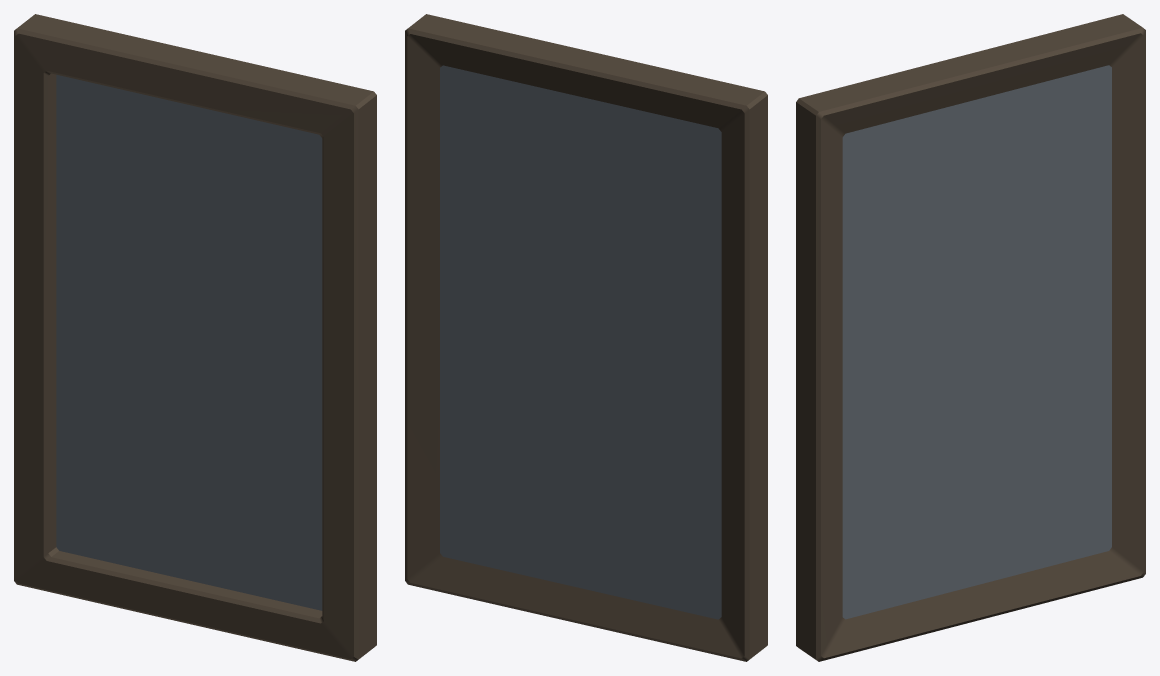
File: TEMP_Painting_Blue.fbx
3 views of the same model, side by side, from view 1: azimuth 30°, elevation 25°; view 2: azimuth 210°, elevation 25°; view 3: azimuth 270°, elevation 25° (orthographic).
Visible parts, largest first — view 1: PaintingBlue; view 2: PaintingBlue; view 3: PaintingBlue.
Boxes of the visible parts, <box> form: PaintingBlue: <box>14,14,376,661</box>; PaintingBlue: <box>405,14,767,661</box>; PaintingBlue: <box>796,14,1145,661</box>.
Bounding box in the file's own units: 5.22 × 13.38 × 7.71.
